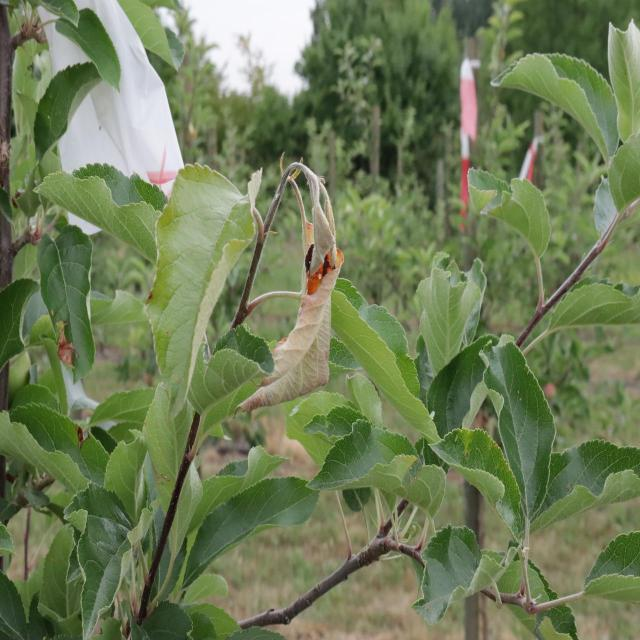-FireBlight-: (284, 141, 349, 402)
